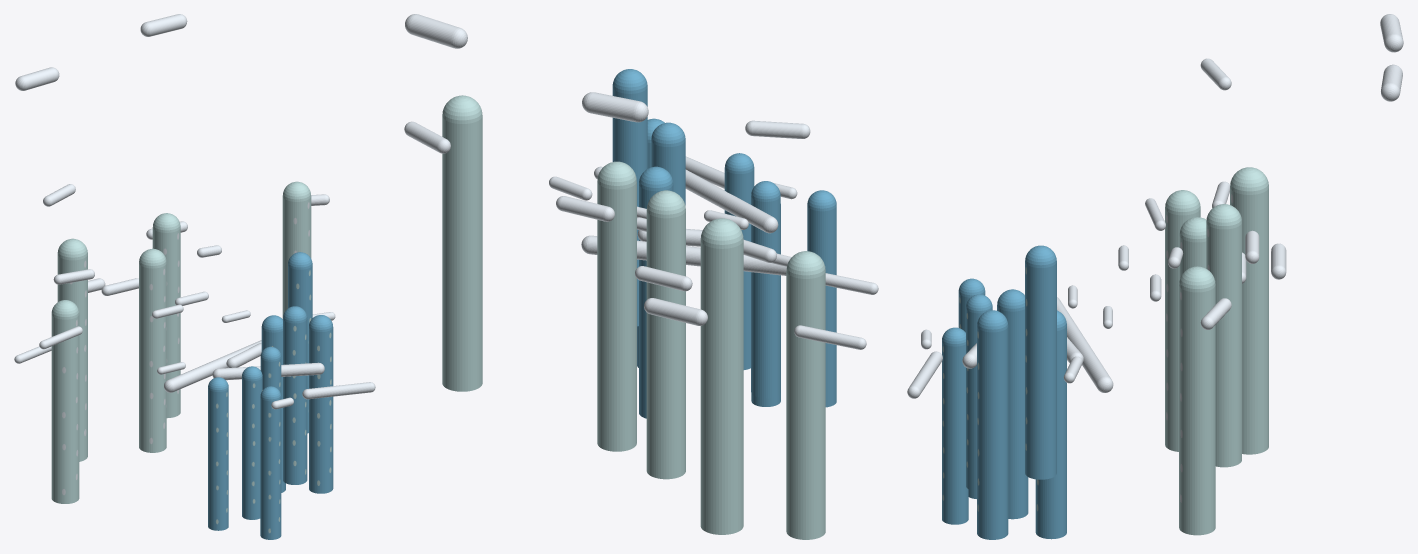
Rendered from sky.obj.
The picture shows the model from 3 angles, left to right: view 1: azimuth 30°, elevation 25°; view 2: azimuth 150°, elevation 25°; view 3: azimuth 270°, elevation 25°; orthographic projection. The views are drawn at different scales.
Parts seen in each view (by area): view 1: Far Capsule24, Far Capsule23, Near Capsule27, Near Capsule28, Near Capsule31, Near Capsule30, Far Capsule22, Far Capsule25, Near Capsule32, Far Capsule21, Near Capsule26, Near_Clouds Capsule17 (+8 smaller); view 2: Far Capsule25, Far Capsule21, Far Capsule22, Far Capsule24, Far Capsule23, Near Capsule32, Near Capsule30, Near Capsule26, Near Capsule33, Near Capsule29, Near Capsule28, Near_Clouds Capsule19 (+12 smaller); view 3: Far Capsule21, Far Capsule25, Near Capsule26, Far Capsule22, Near Capsule27, Near Capsule31, Near Capsule28, Far Capsule24, Near Capsule29, Near Capsule33, Far Capsule23, Near_Clouds Capsule17 (+4 smaller).
Boxes of the visible parts, x1,y1,x2,y2 form: Far Capsule24: (51,300,79,503); Far Capsule23: (139,248,166,452); Near Capsule27: (309,315,333,493); Near Capsule28: (283,306,307,484); Near Capsule31: (260,386,281,539); Near Capsule30: (208,377,228,530); Far Capsule22: (152,213,180,418); Far Capsule25: (57,238,87,461); Near Capsule32: (242,366,262,519); Far Capsule21: (282,181,311,318); Near Capsule26: (288,252,312,433); Near_Clouds Capsule17: (164,340,261,392); Far Capsule25: (700,218,743,534); Far Capsule21: (442,95,482,391); Far Capsule22: (597,161,636,451); Far Capsule24: (786,251,825,539); Far Capsule23: (646,190,685,479); Near Capsule32: (751,181,780,398); Near Capsule30: (807,190,836,407); Near Capsule26: (612,69,647,326); Near Capsule33: (724,153,754,369); Near Capsule29: (639,166,673,418); Near Capsule28: (651,122,685,205); Near_Clouds Capsule19: (685,169,778,233); Far Capsule21: (1179,266,1215,535); Far Capsule25: (1230,167,1268,454); Near Capsule26: (1025,245,1056,479); Far Capsule22: (1206,204,1241,467); Near Capsule27: (977,310,1008,539); Near Capsule31: (942,327,968,524); Near Capsule28: (997,289,1028,519); Far Capsule24: (1165,190,1200,451); Near Capsule29: (1035,310,1066,539); Near Capsule33: (966,294,992,491); Far Capsule23: (1179,217,1206,279); Near_Clouds Capsule17: (1057,297,1113,392).
Size of the model in its own units: 6366 by 7185 by 6662.
3 materials, 3 textured.
